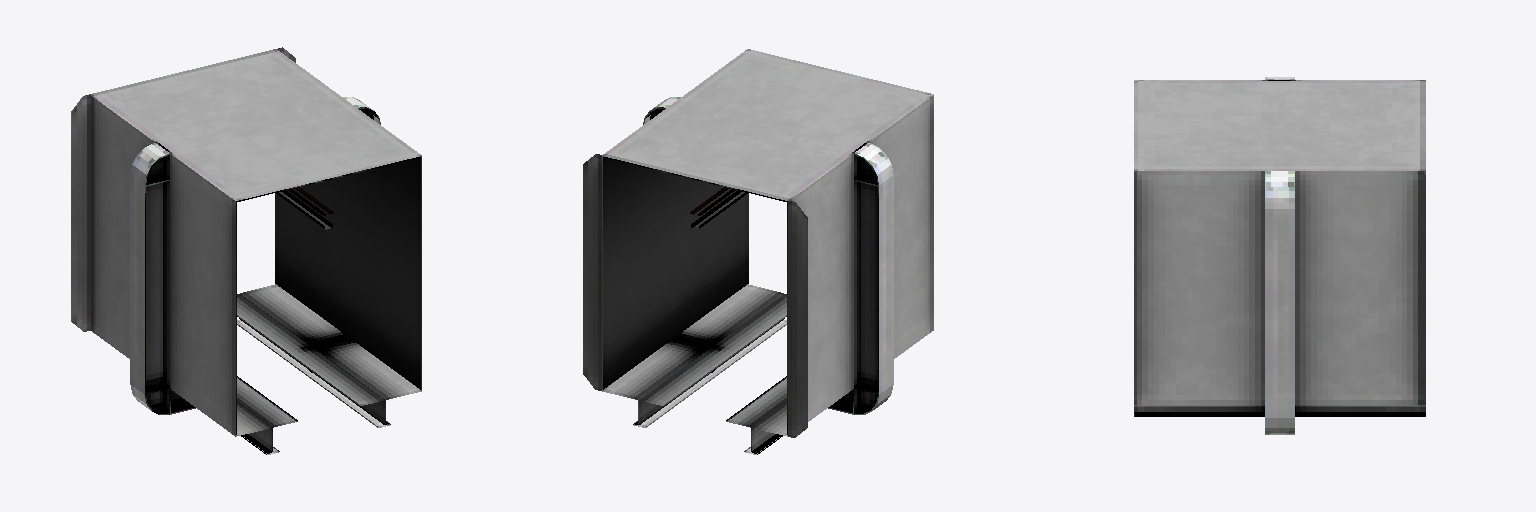
3 views of the same model, side by side, from view 1: azimuth 30°, elevation 25°; view 2: azimuth 150°, elevation 25°; view 3: azimuth 270°, elevation 25° (orthographic).
Parts seen in each view (by area): view 1: main_track.002, reinforce_structure_a2.002, reinforce_structure_b1.002, reinforce_structure_a1.002, 3rd_rail.002; view 2: main_track.002, reinforce_structure_b1.002, reinforce_structure_a2.002, reinforce_structure_a1.002, 3rd_rail.002; view 3: main_track.002, reinforce_structure_a2.002.
Part boxes in pixels (x1,y1,x2,y2): main_track.002: (90,49,421,454); reinforce_structure_a2.002: (130,97,380,414); reinforce_structure_b1.002: (71,47,295,331); reinforce_structure_a1.002: (146,109,373,408); 3rd_rail.002: (276,187,333,229); main_track.002: (602,49,933,454); reinforce_structure_b1.002: (583,154,807,437); reinforce_structure_a2.002: (643,97,893,414); reinforce_structure_a1.002: (650,109,877,408); 3rd_rail.002: (690,187,747,229); main_track.002: (1134,80,1425,416); reinforce_structure_a2.002: (1265,77,1294,434).
Size of the model in its own units: 1.89 by 1.99 by 2.02.
Materials: 1 (1 with a texture image).